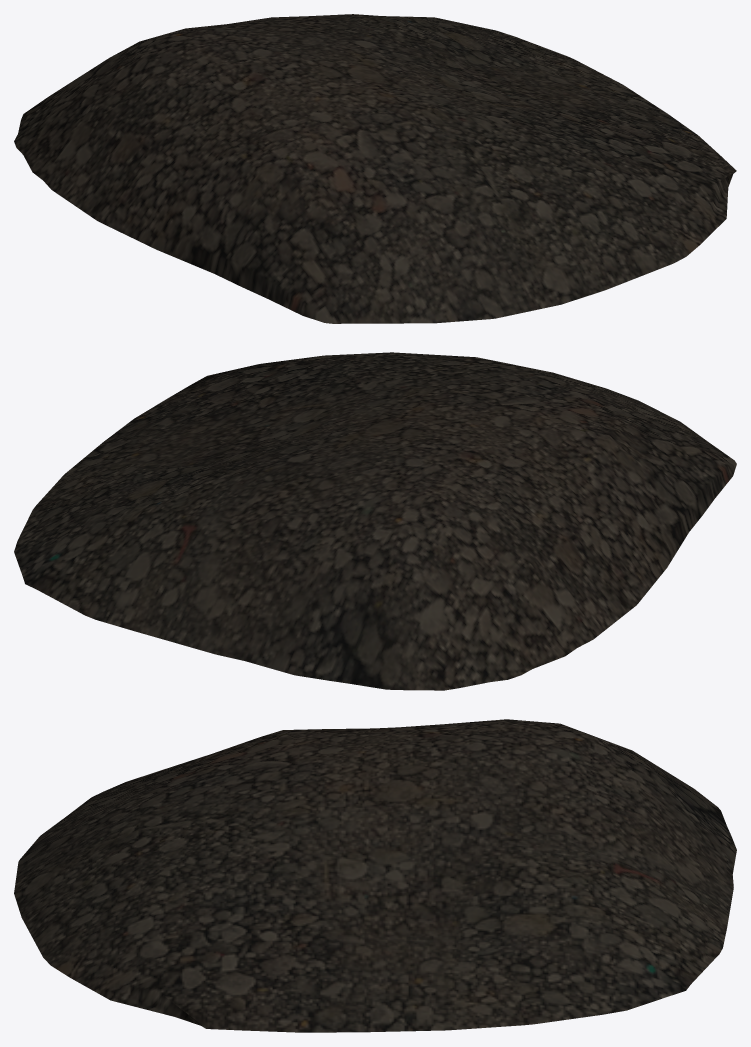
The model's file is gravel_pile_hr_2.obj.
3 renders of one model, top to bottom at view 1: azimuth 30°, elevation 25°; view 2: azimuth 150°, elevation 25°; view 3: azimuth 270°, elevation 25°, orthographic. The views are drawn at different scales.
Visible parts, largest first — view 1: gravel_pile_hr_2; view 2: gravel_pile_hr_2; view 3: gravel_pile_hr_2.
Boxes of the visible parts, left/top/right/bottom form: gravel_pile_hr_2: left=14, top=14, right=736, bottom=323; gravel_pile_hr_2: left=14, top=352, right=736, bottom=690; gravel_pile_hr_2: left=14, top=719, right=736, bottom=1032.
Bounding box in the file's own units: 1.49 × 0.2791 × 1.67.
